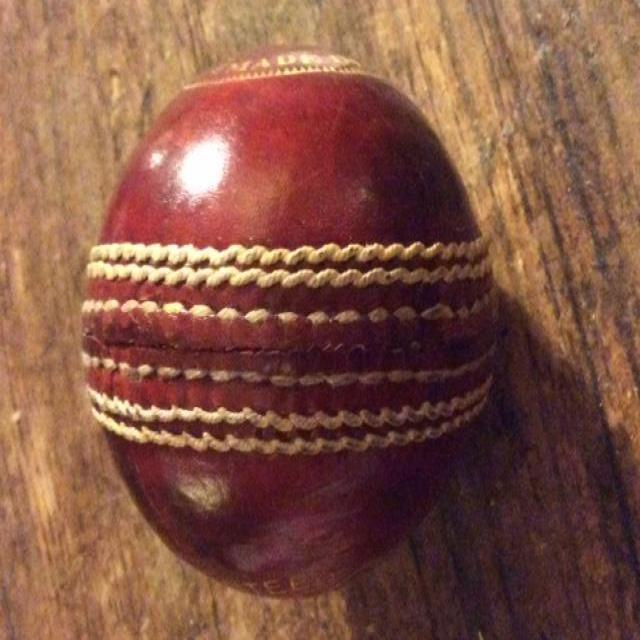ball: (81, 49, 501, 598)
